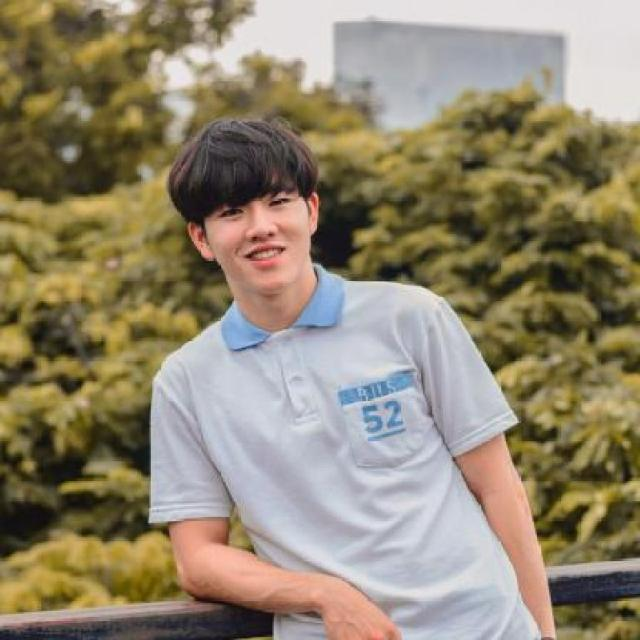sem_oculos: (179, 196, 329, 224)
